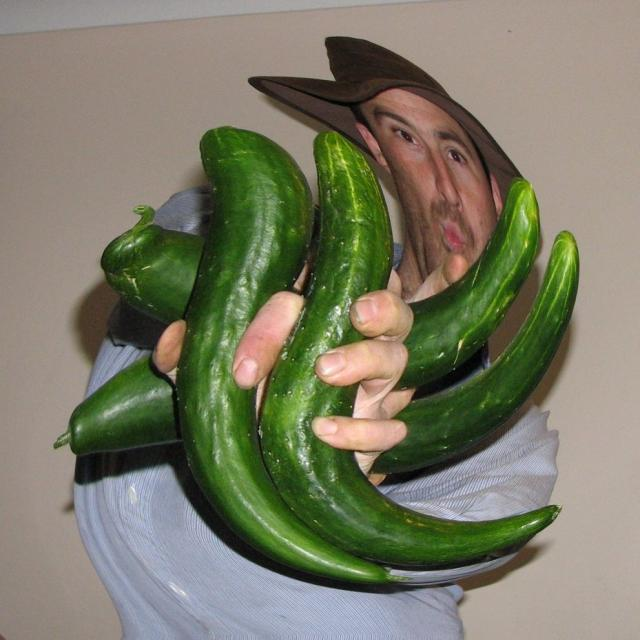Zucchini: (120, 73, 594, 599)
